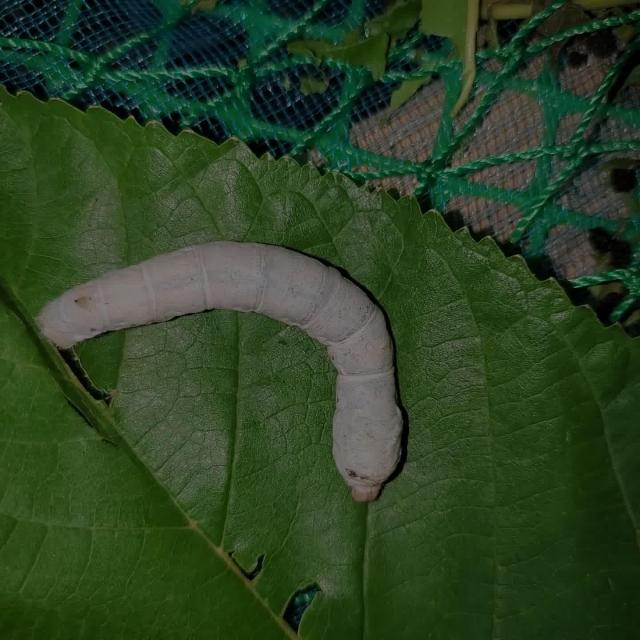Healthy: (15, 218, 435, 513)
